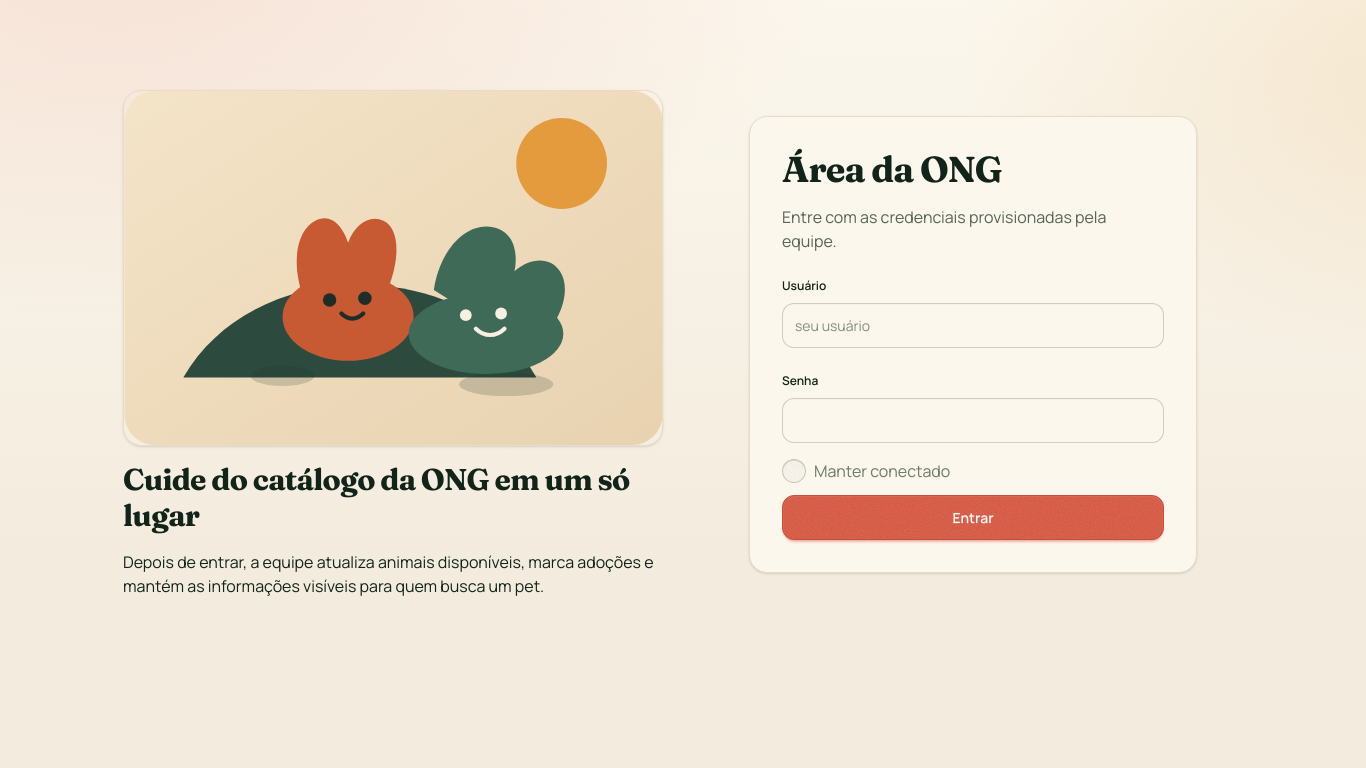
Test: LoginPage › shows the invalid credentials alert and stays on login after 401
Type "admin" into the field named "username". click: (973, 325)
box: [782,302,1164,348]
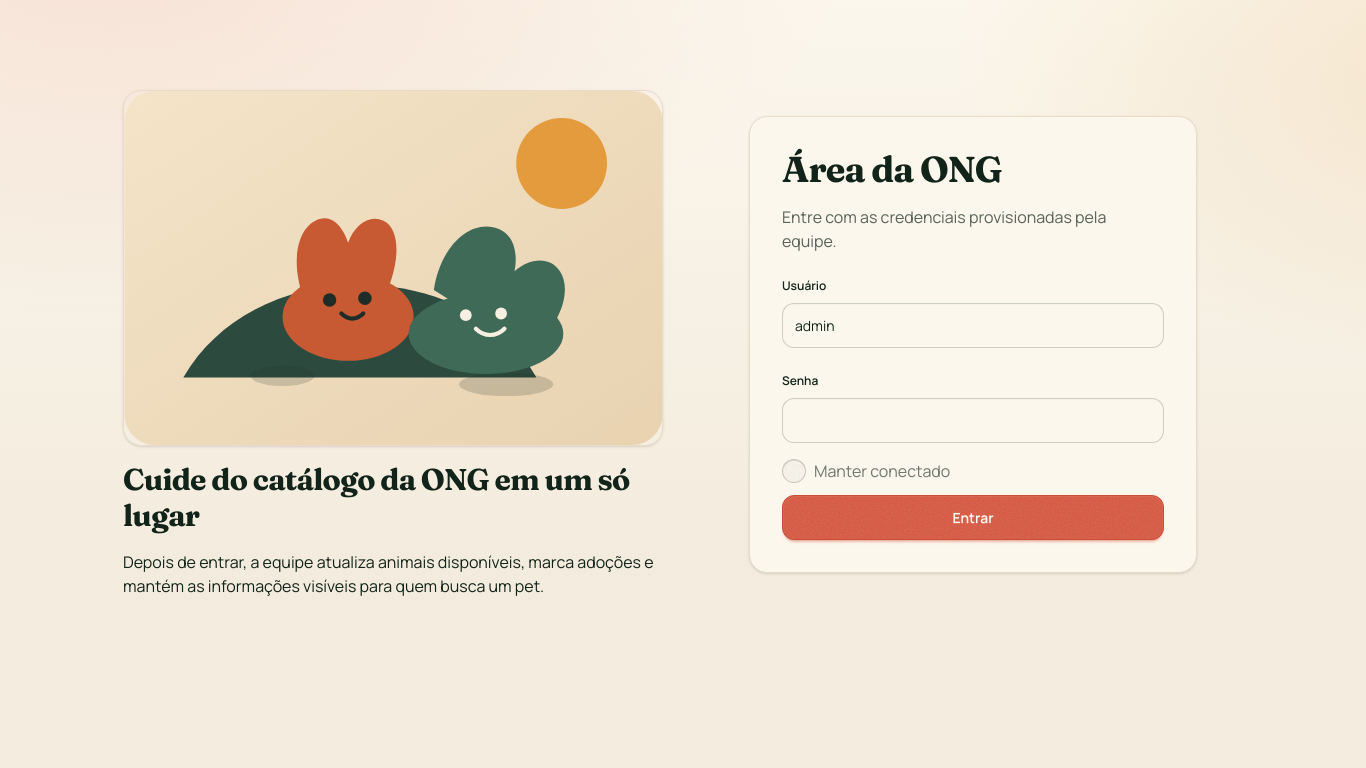
Type "wrong" into the password field named "password". click: (952, 420)
box: [795,398,1109,442]
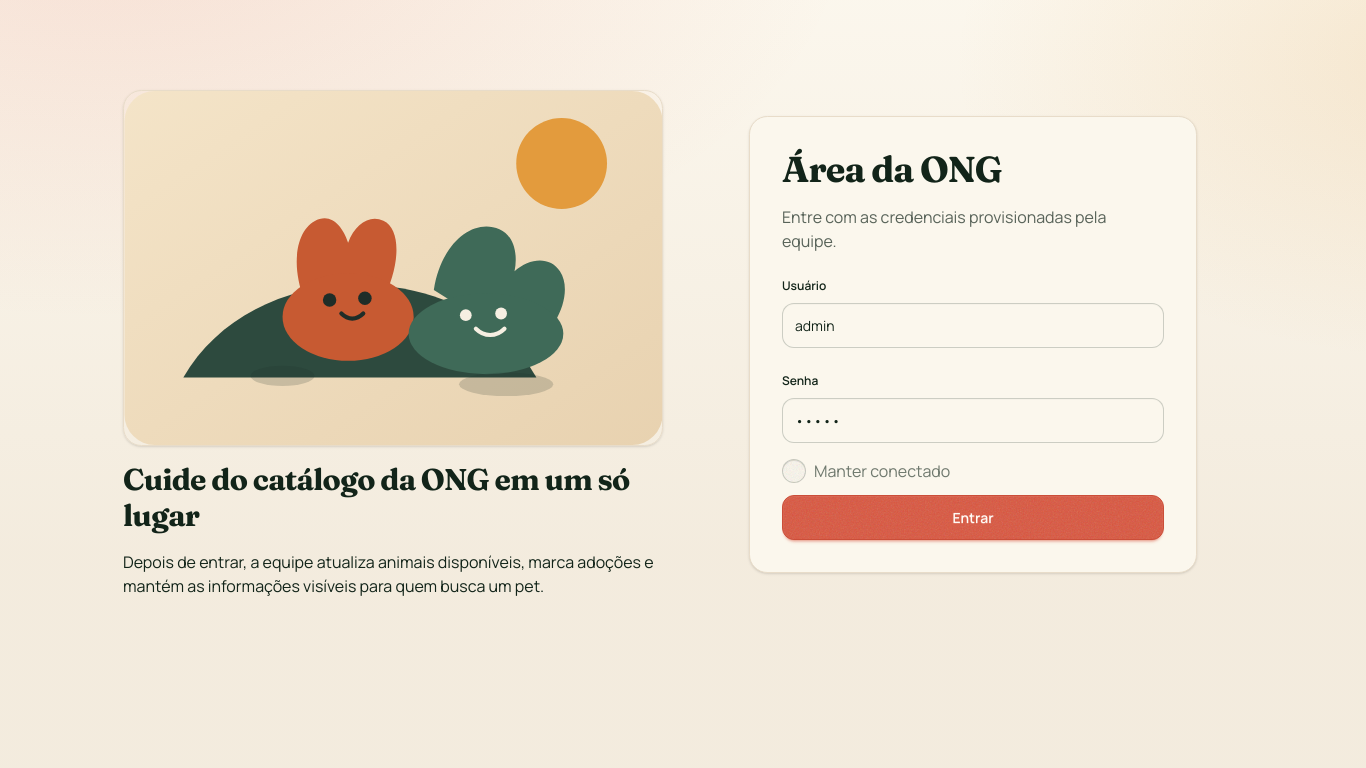
Submit the form, box [782,268,1164,540]
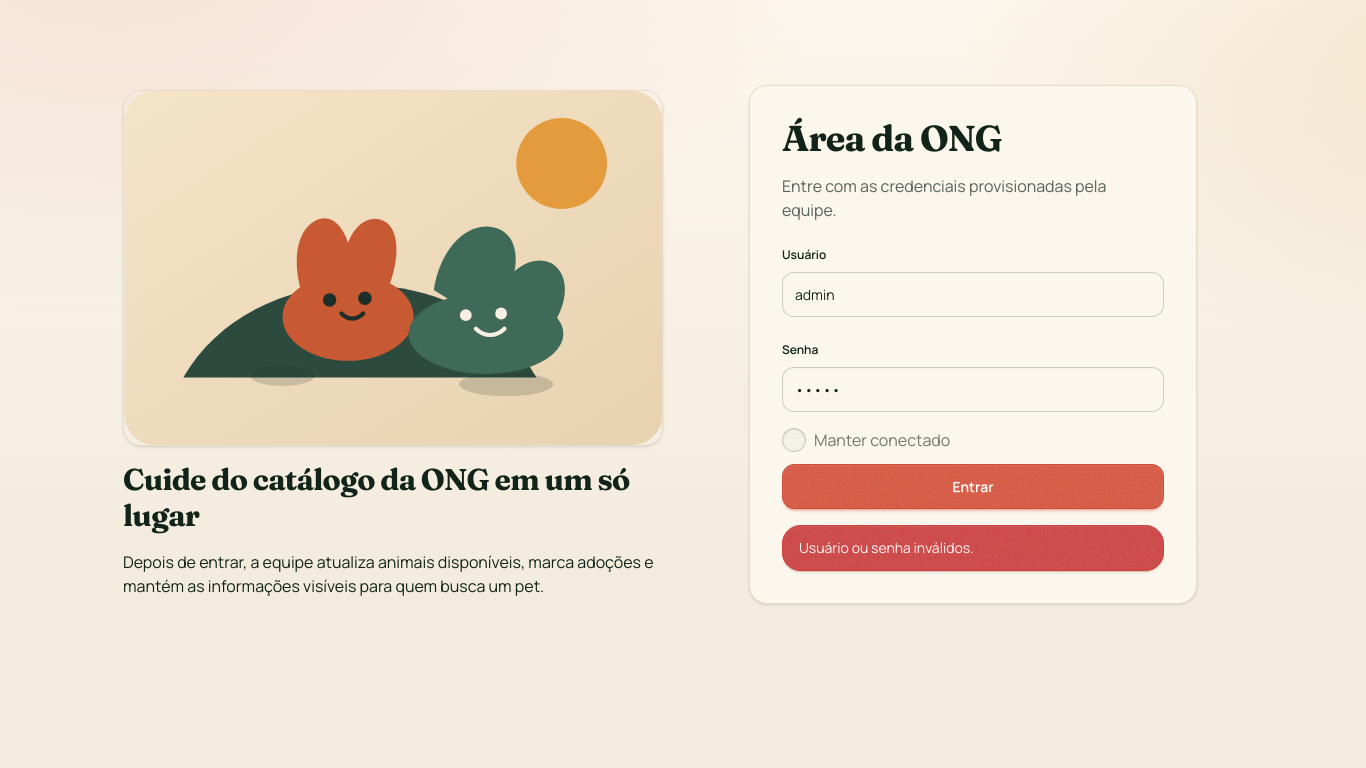
Expected: the message "Usuário ou senha inválidos." is shown, [782,524,1164,570]
